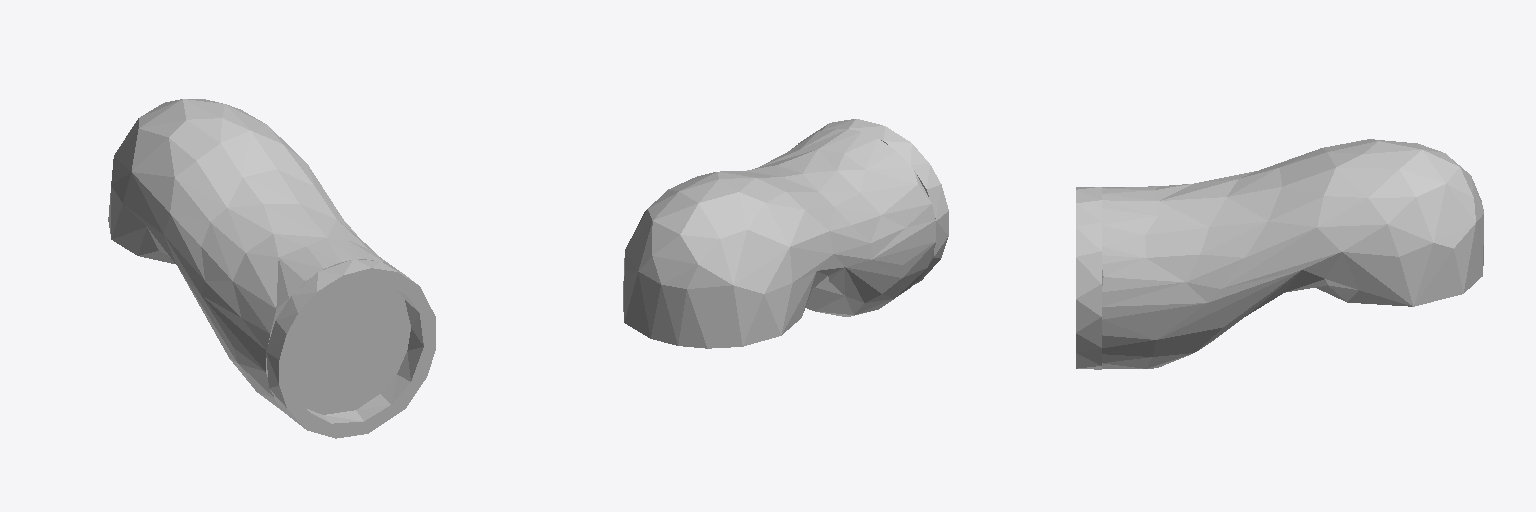
Rendered from col-kuka-link2.obj.
3 views of the same model, side by side, from view 1: azimuth 30°, elevation 25°; view 2: azimuth 150°, elevation 25°; view 3: azimuth 270°, elevation 25° (orthographic).
Size of the model in its own units: 120 by 153 by 269.